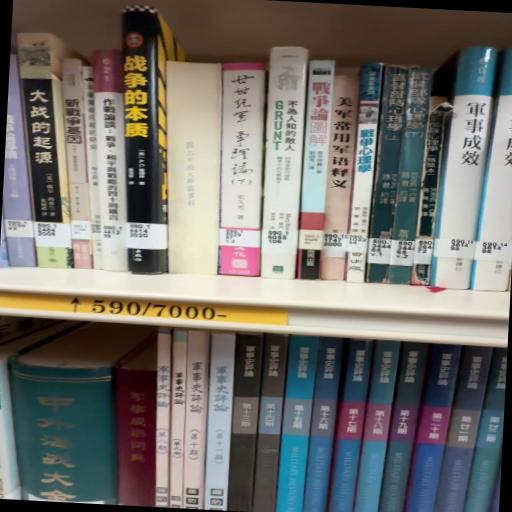backward: (159, 58, 234, 276)
book: (213, 59, 271, 277), (256, 49, 309, 280), (1, 45, 50, 274), (203, 335, 240, 512)
